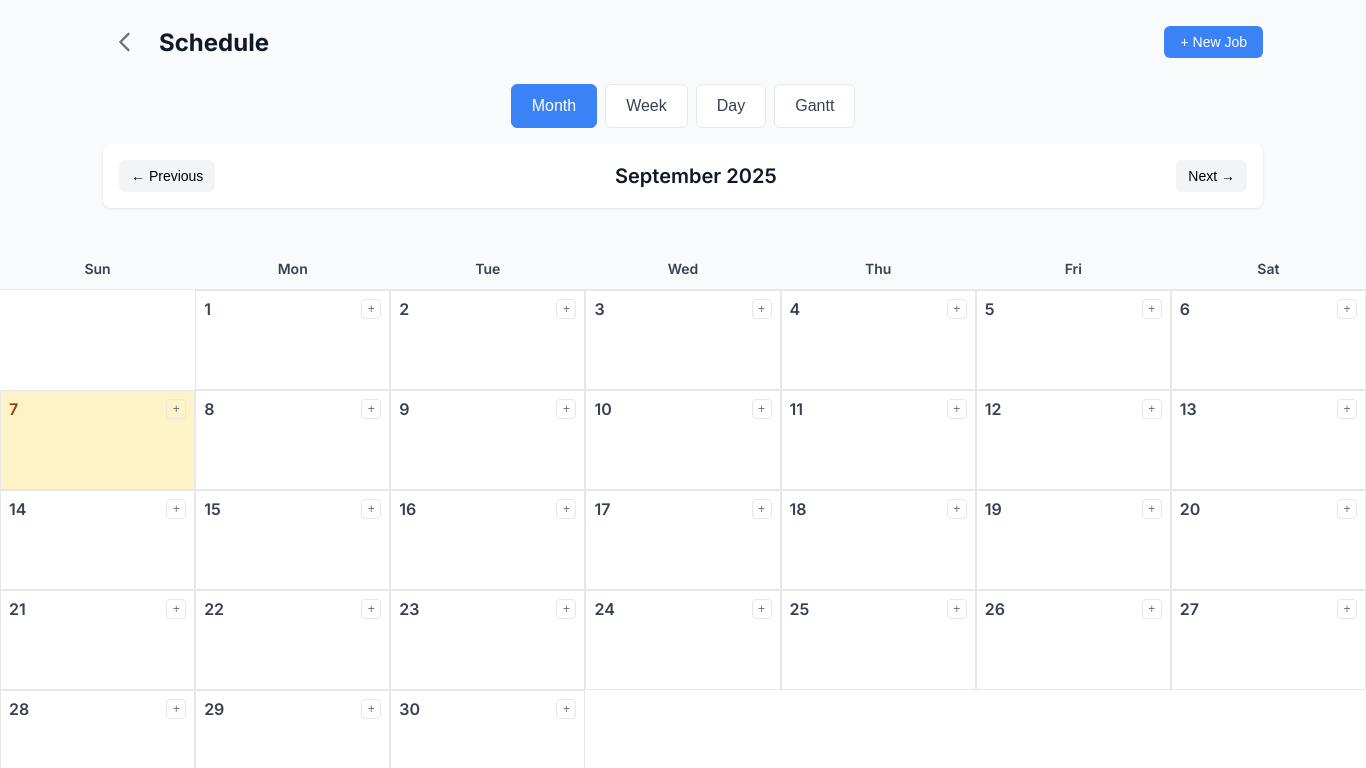
Test: Recurring Jobs › shows recurrence options when checkbox is checked
Note: Open new job modal
Click the button "+ New Job". click: (1214, 42)
box: [1164,26,1263,58]
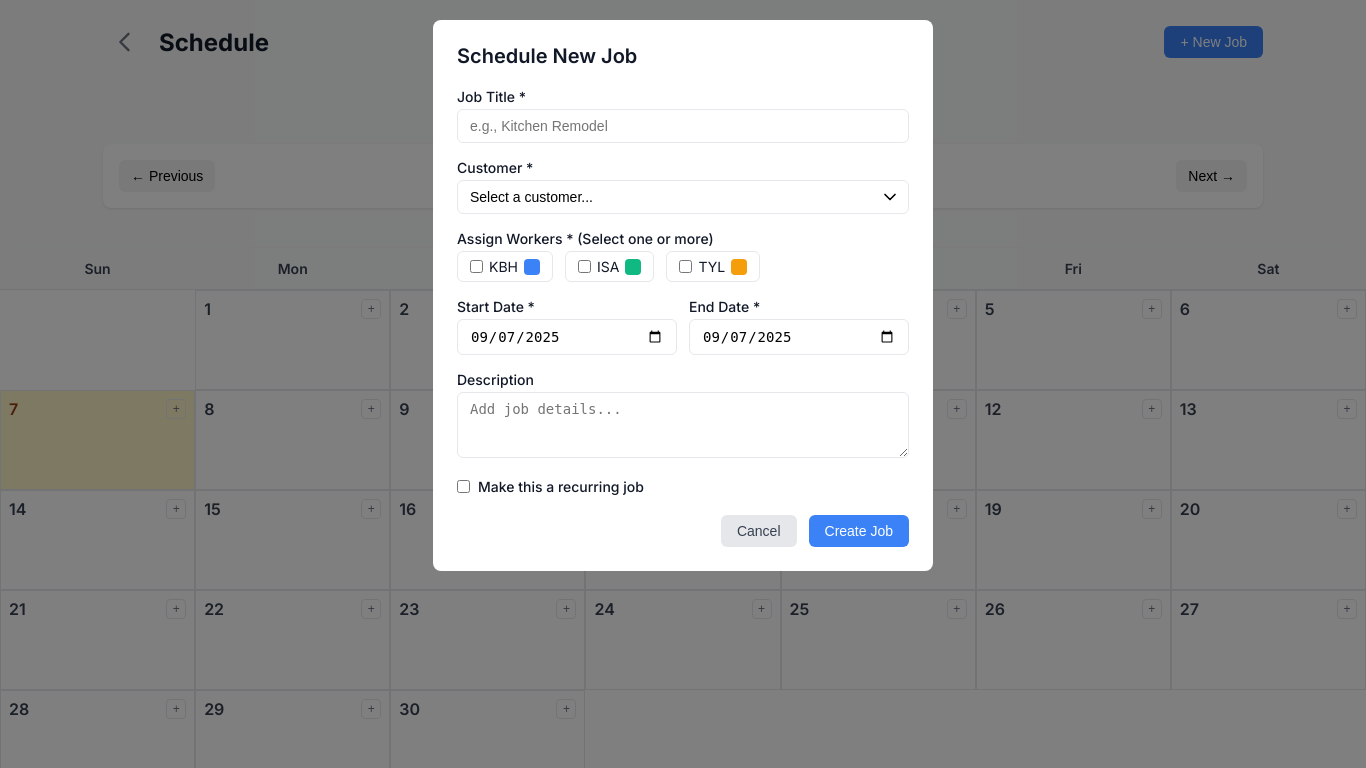
Now the heading "Schedule New Job" is shown, box [457,44,637,68]
Note: Check the recurring checkbox
Click the checkbox labelled "Make this a recurring job". click: (464, 486)
box: [457,480,470,493]
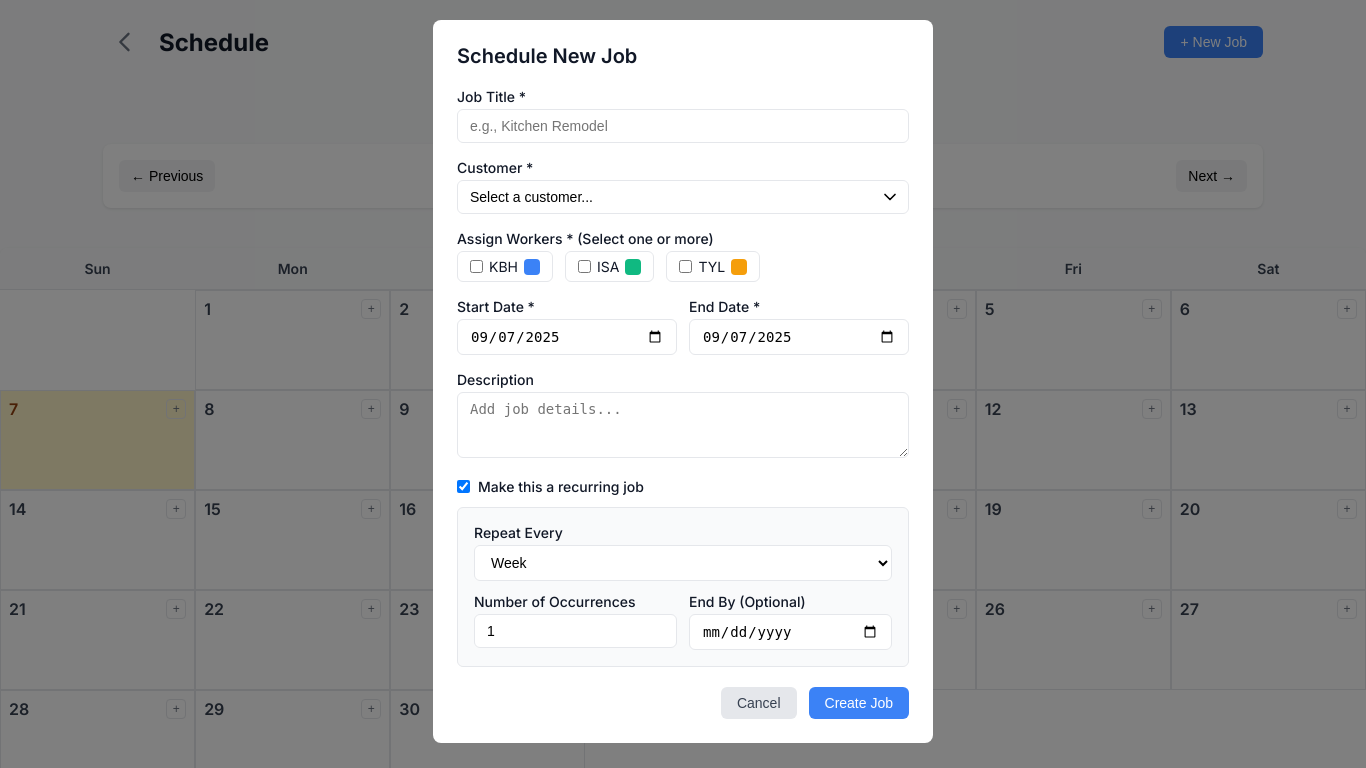
Now the text "Repeat Every" is shown, box [474,524,563,541]
Now the text "Number of Occurrences" is shown, box [474,593,636,610]
Now the text "End By (Optional)" is shown, box [689,593,806,610]
